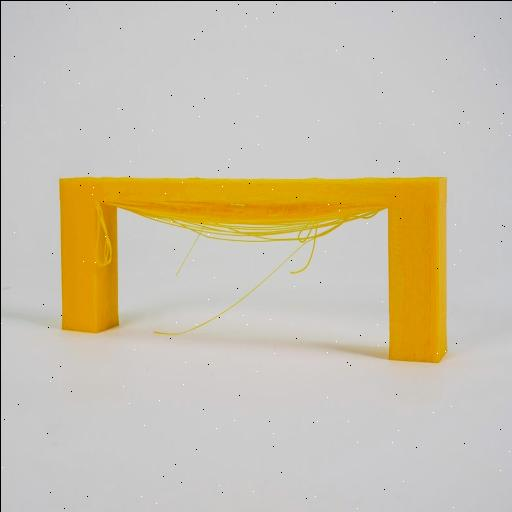stringing: (92, 200, 384, 348)
